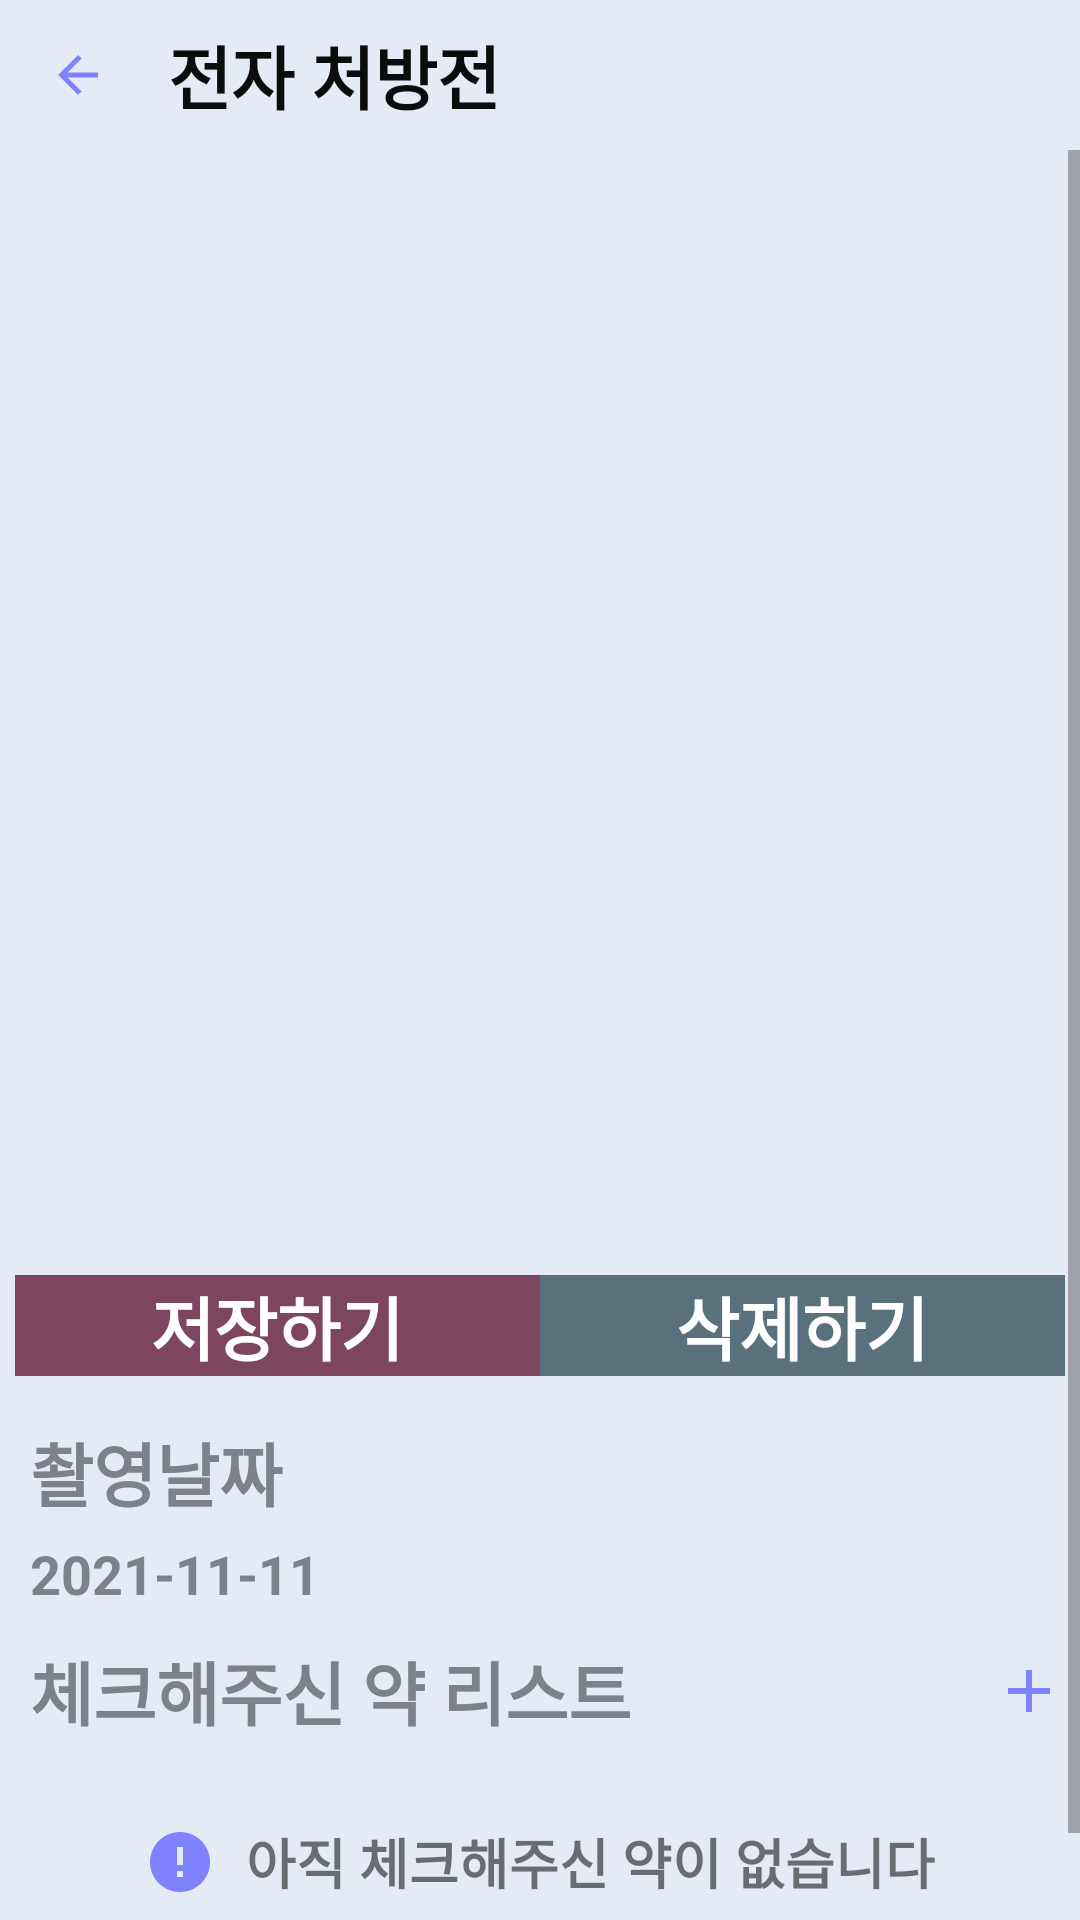

Screen size 1080px x 1920px. Icon name, then its center in pixels as point (x, y):
arrow back: point (78, 75)
error: point (180, 1862)
